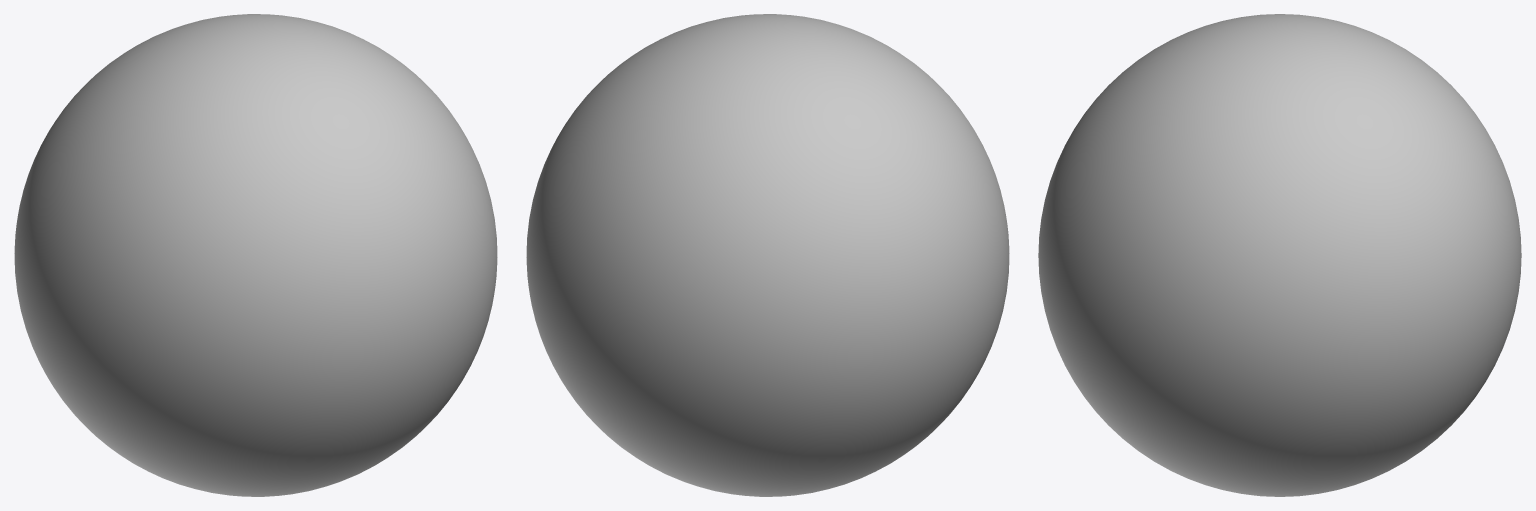
File: red_ball.obj
The picture shows the model from 3 angles, left to right: view 1: azimuth 30°, elevation 25°; view 2: azimuth 150°, elevation 25°; view 3: azimuth 270°, elevation 25°; orthographic projection.
Visible parts, largest first — view 1: 棱角球; view 2: 棱角球; view 3: 棱角球.
Part boxes in pixels (left/top/right/bottom): 棱角球: left=14, top=14, right=497, bottom=496; 棱角球: left=526, top=14, right=1009, bottom=496; 棱角球: left=1038, top=14, right=1521, bottom=496.
Bounding box in the file's own units: 0.48 × 0.48 × 0.48.
